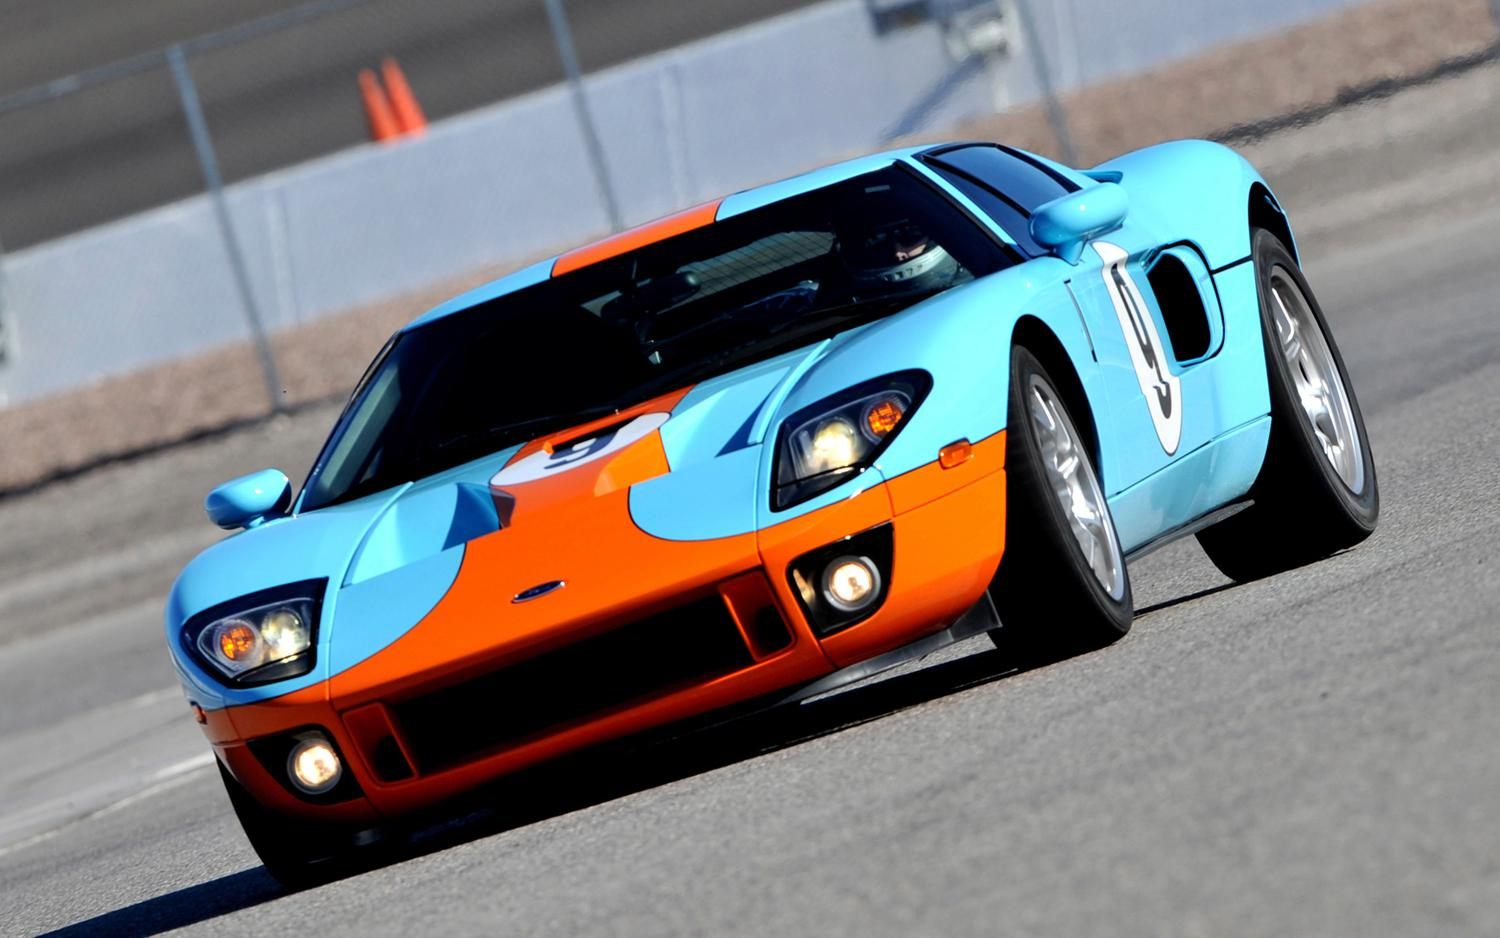Car: (106, 78, 1408, 898)
